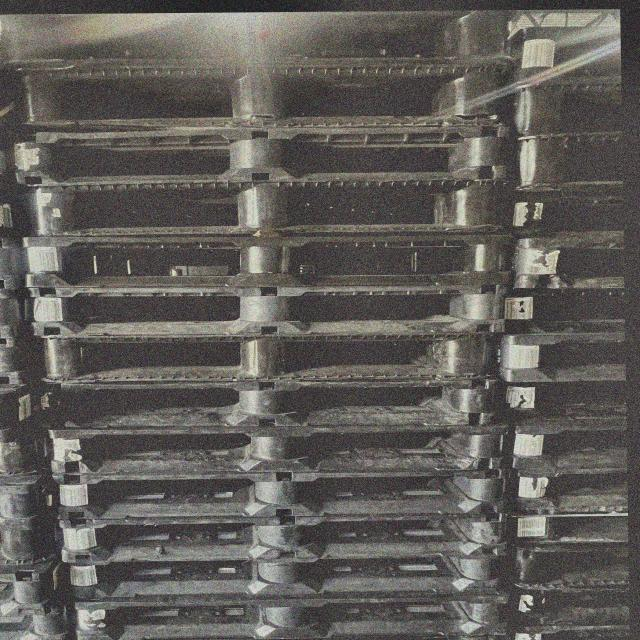igps: (7, 116, 521, 194), (16, 63, 524, 140), (22, 270, 519, 348), (35, 410, 521, 488), (33, 364, 513, 441), (0, 6, 528, 74), (49, 499, 521, 572), (15, 174, 514, 243), (16, 230, 520, 298), (32, 319, 514, 390), (54, 534, 524, 605), (45, 458, 520, 528), (66, 580, 523, 640), (485, 60, 640, 138), (490, 0, 632, 80), (473, 324, 640, 391), (488, 275, 640, 344), (495, 173, 640, 245), (491, 228, 640, 297), (493, 127, 640, 195), (479, 374, 640, 432), (488, 420, 640, 477), (491, 535, 640, 593), (487, 464, 640, 519), (490, 574, 640, 628), (491, 508, 640, 558), (0, 549, 81, 615), (0, 505, 65, 571), (0, 464, 66, 524), (0, 417, 57, 483), (501, 616, 640, 640), (0, 603, 82, 640)
